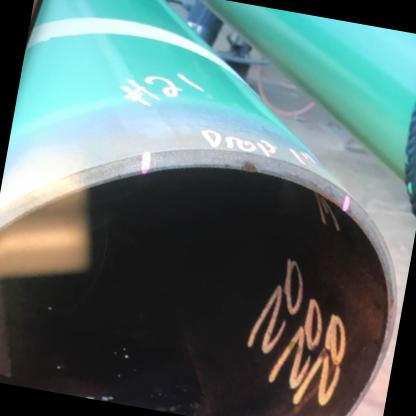Bevel: (232, 154, 262, 180)
